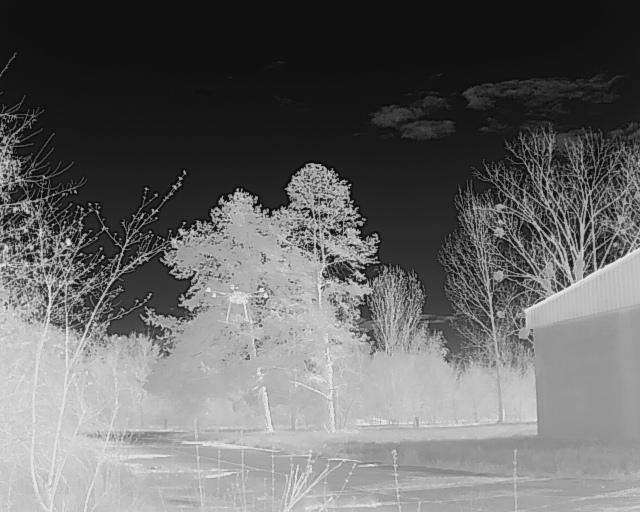drone: (201, 279, 271, 328)
